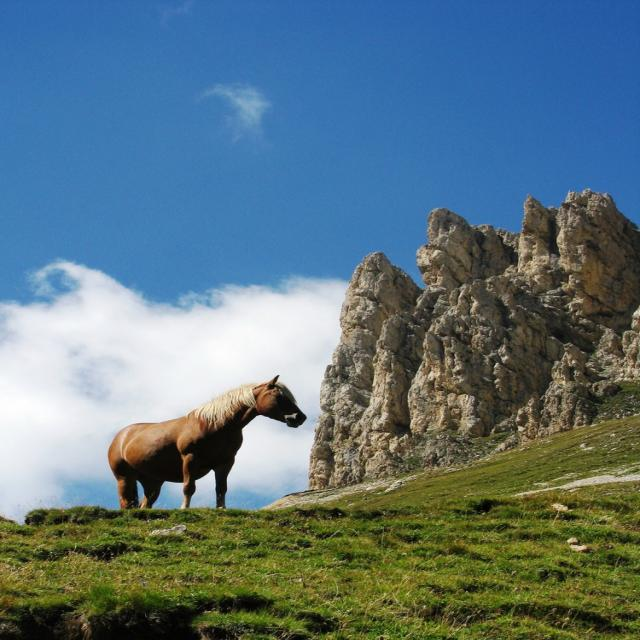Horse: (104, 372, 310, 507)
